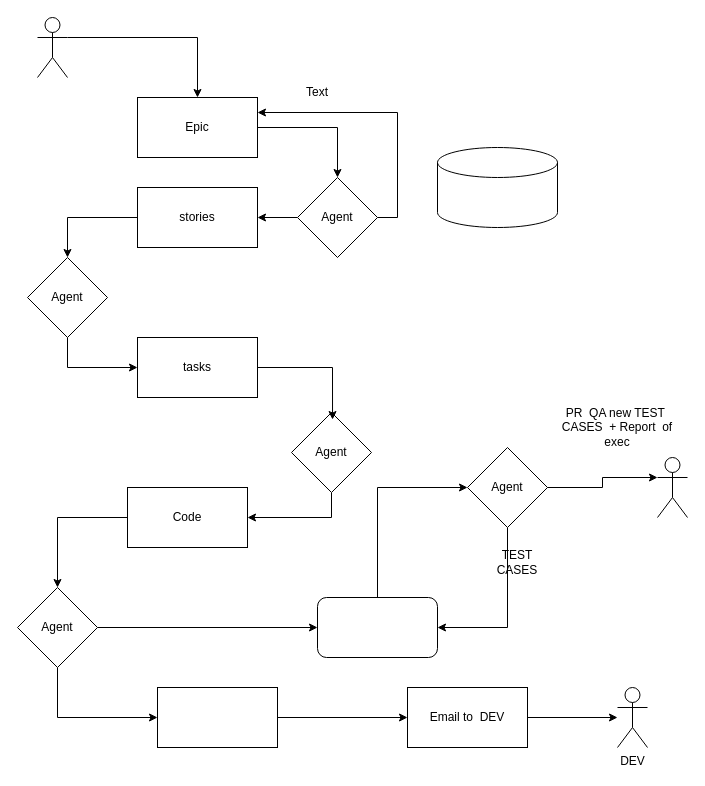
Some shapes in this 705 by 786 pixel diagram are drawn without their labels. Each missing label, with the centre of its shape:
"Documentation" goes at [497,187].
"PM" goes at [52,47].
"PR Feat Release merge" goes at [217,717].
"QA" goes at [672,487].
"stage" goes at [377,627].
